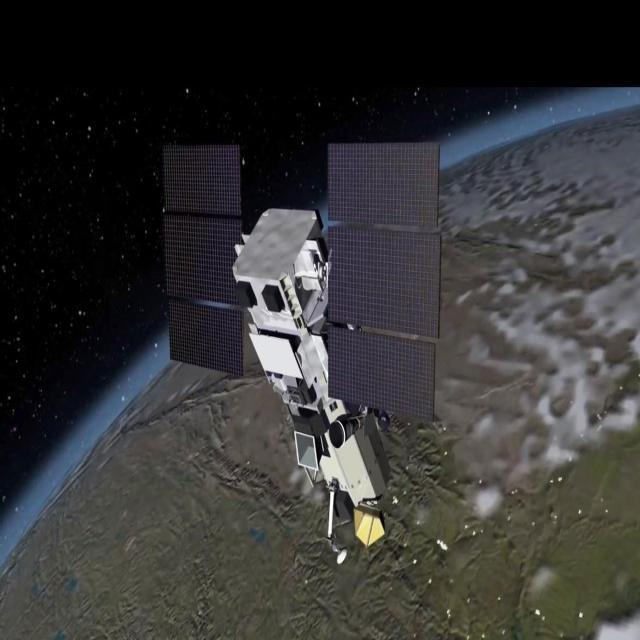sat: (154, 116, 456, 579)
